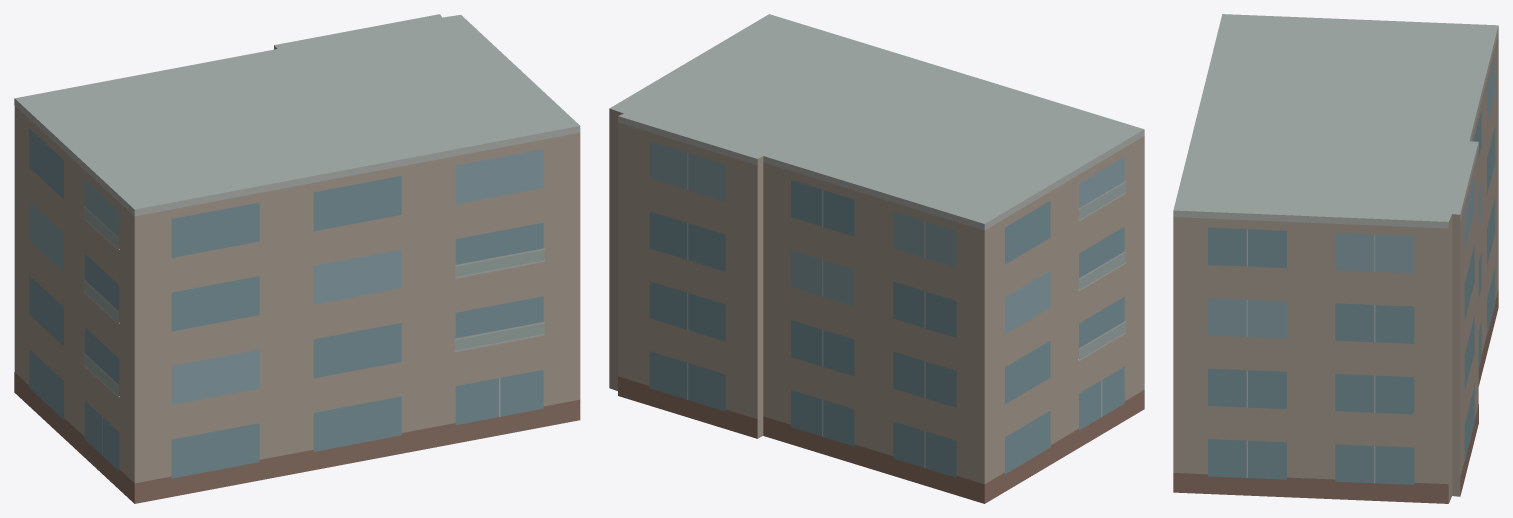
File: survey-upis-32750927.glb
3 renders of one model, left to right at view 1: azimuth 30°, elevation 25°; view 2: azimuth 150°, elevation 25°; view 3: azimuth 270°, elevation 25°, orthographic. The views are drawn at different scales.
Visible parts, largest first — view 1: survey-upis-32750927.tmp; view 2: survey-upis-32750927.tmp; view 3: survey-upis-32750927.tmp.
Part boxes in pixels (x1,y1,x2,y2): survey-upis-32750927.tmp: [14, 14, 580, 503]; survey-upis-32750927.tmp: [609, 14, 1144, 503]; survey-upis-32750927.tmp: [1173, 14, 1498, 503].
Bounding box in the file's own units: 16.53 × 10.45 × 10.93.
